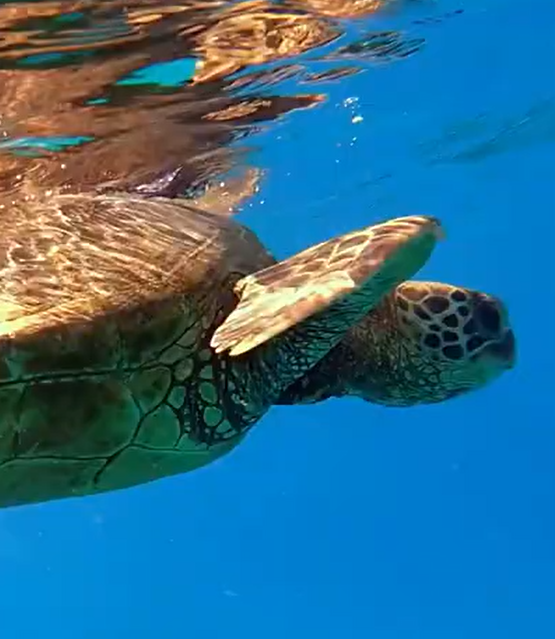seaturtle: (210, 214, 510, 421)
